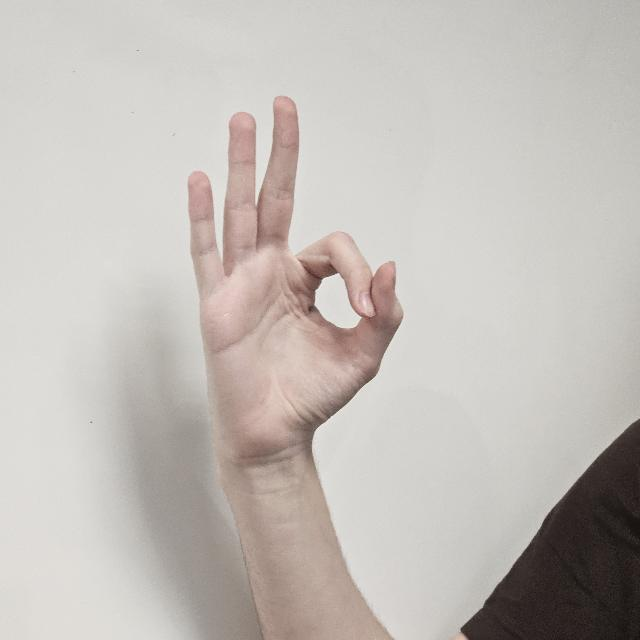Bolinha: (182, 90, 406, 453)
